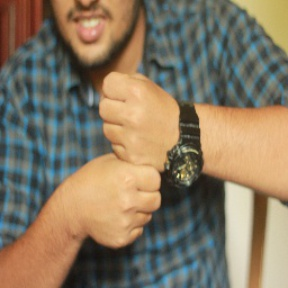G: (71, 63, 177, 256)
